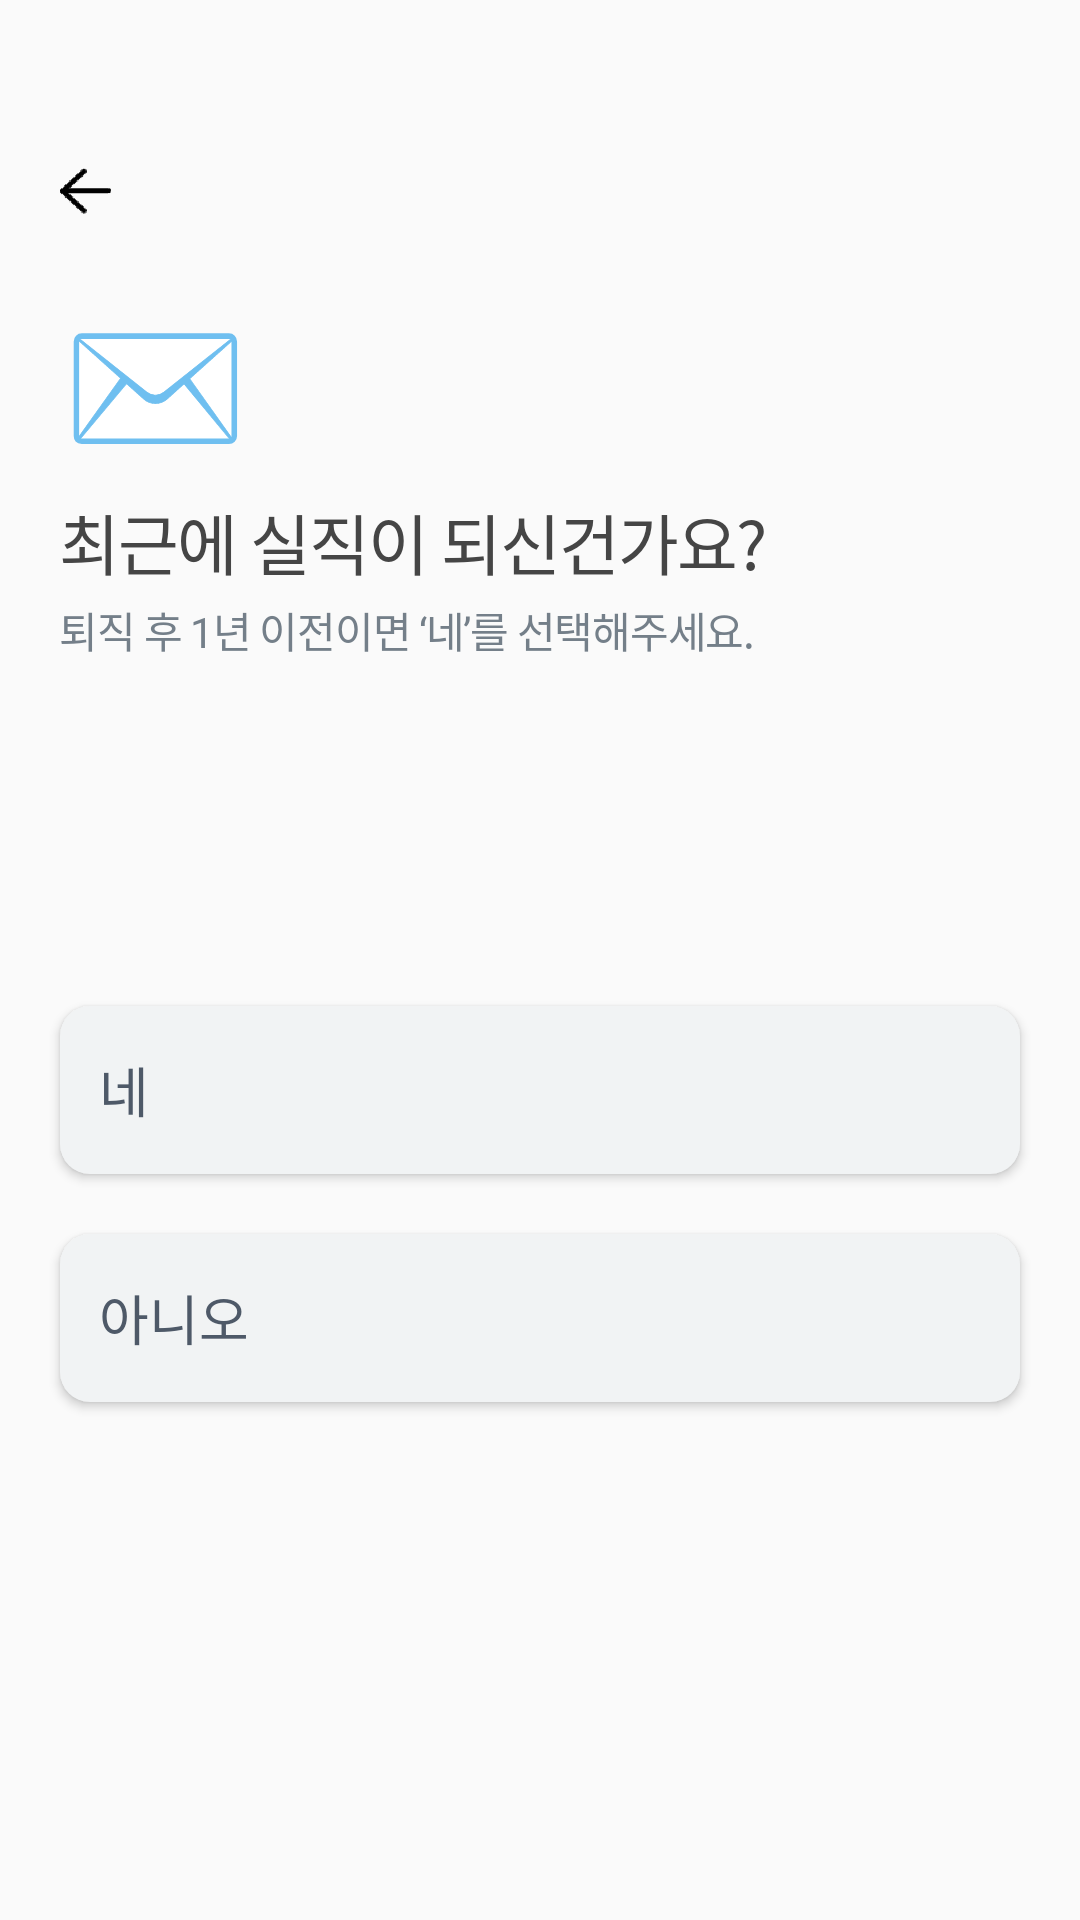

Screen size 1080w x 1920h. Icon name, then its box in pixels as (x1, y1, x2, y2):
before: (60, 168, 111, 214)
